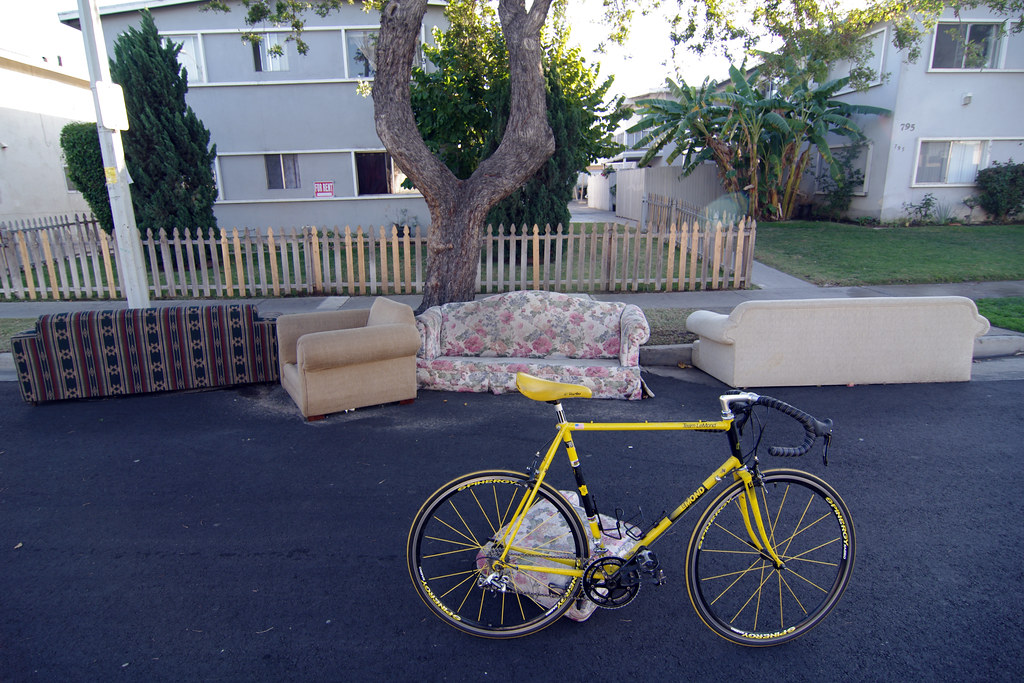chair: (399, 363, 889, 646)
sofa: (675, 261, 996, 392)
